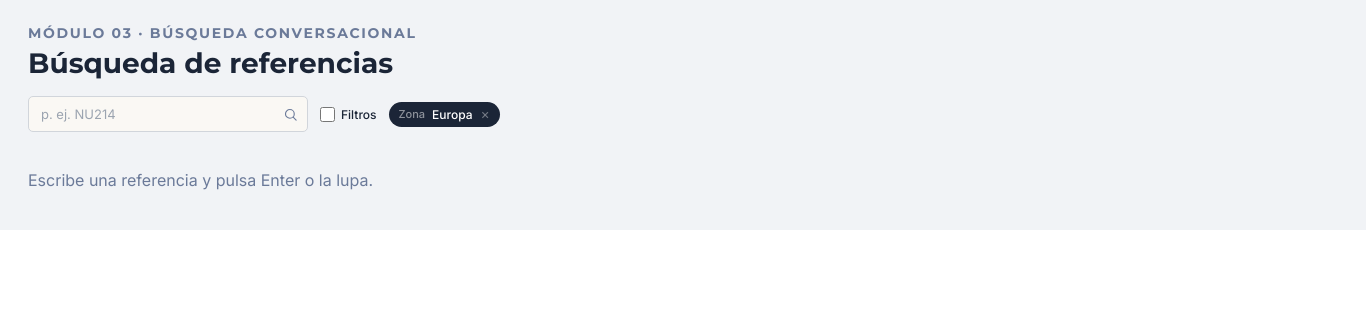
fases B y C · selección y ofertas › «Seleccionar las de esta página» marca todas las de la página
Type "6204" into the search field named "Referencia". click: (168, 114)
box: x1=28 y1=96 x2=308 y2=132
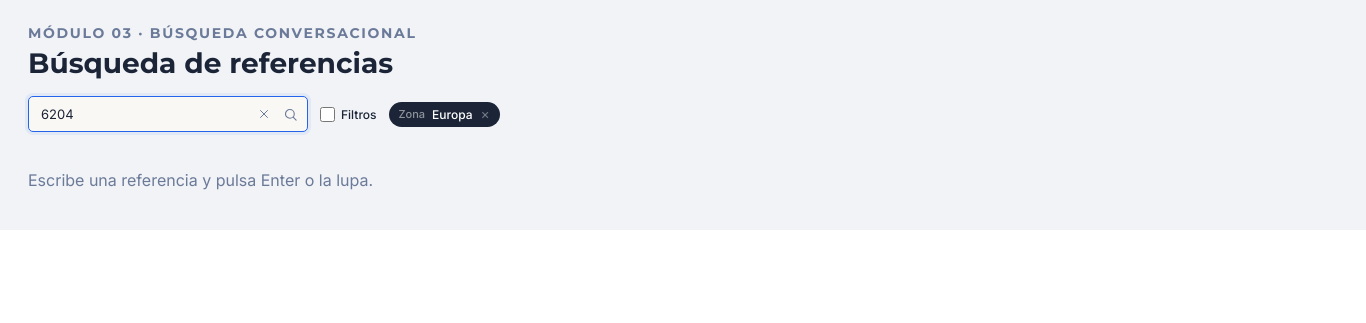
Click the button named "Buscar referencia". click: (290, 114)
box: x1=276 y1=100 x2=304 y2=128
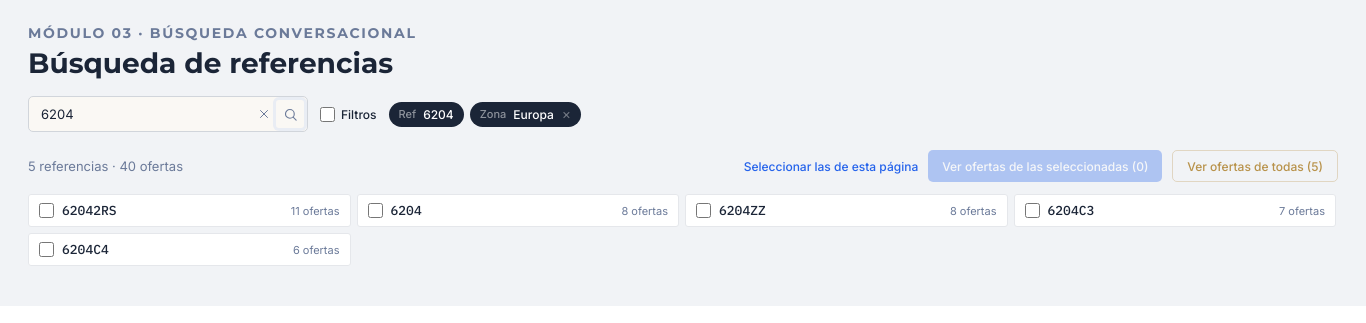
Click the button "Seleccionar las de esta página". click: (831, 166)
box: x1=744 y1=158 x2=918 y2=174
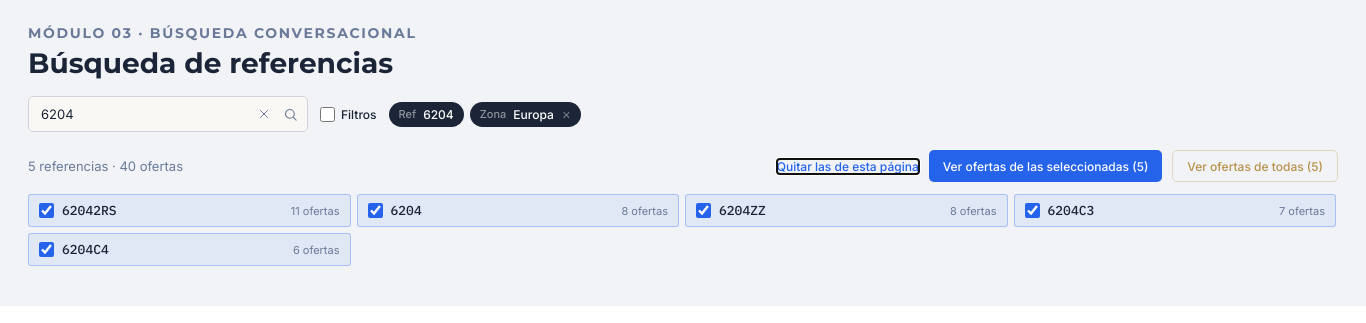
Expected: the button "Ver ofertas de las seleccionadas (5)" is enabled, x1=929 y1=150 x2=1162 y2=182
